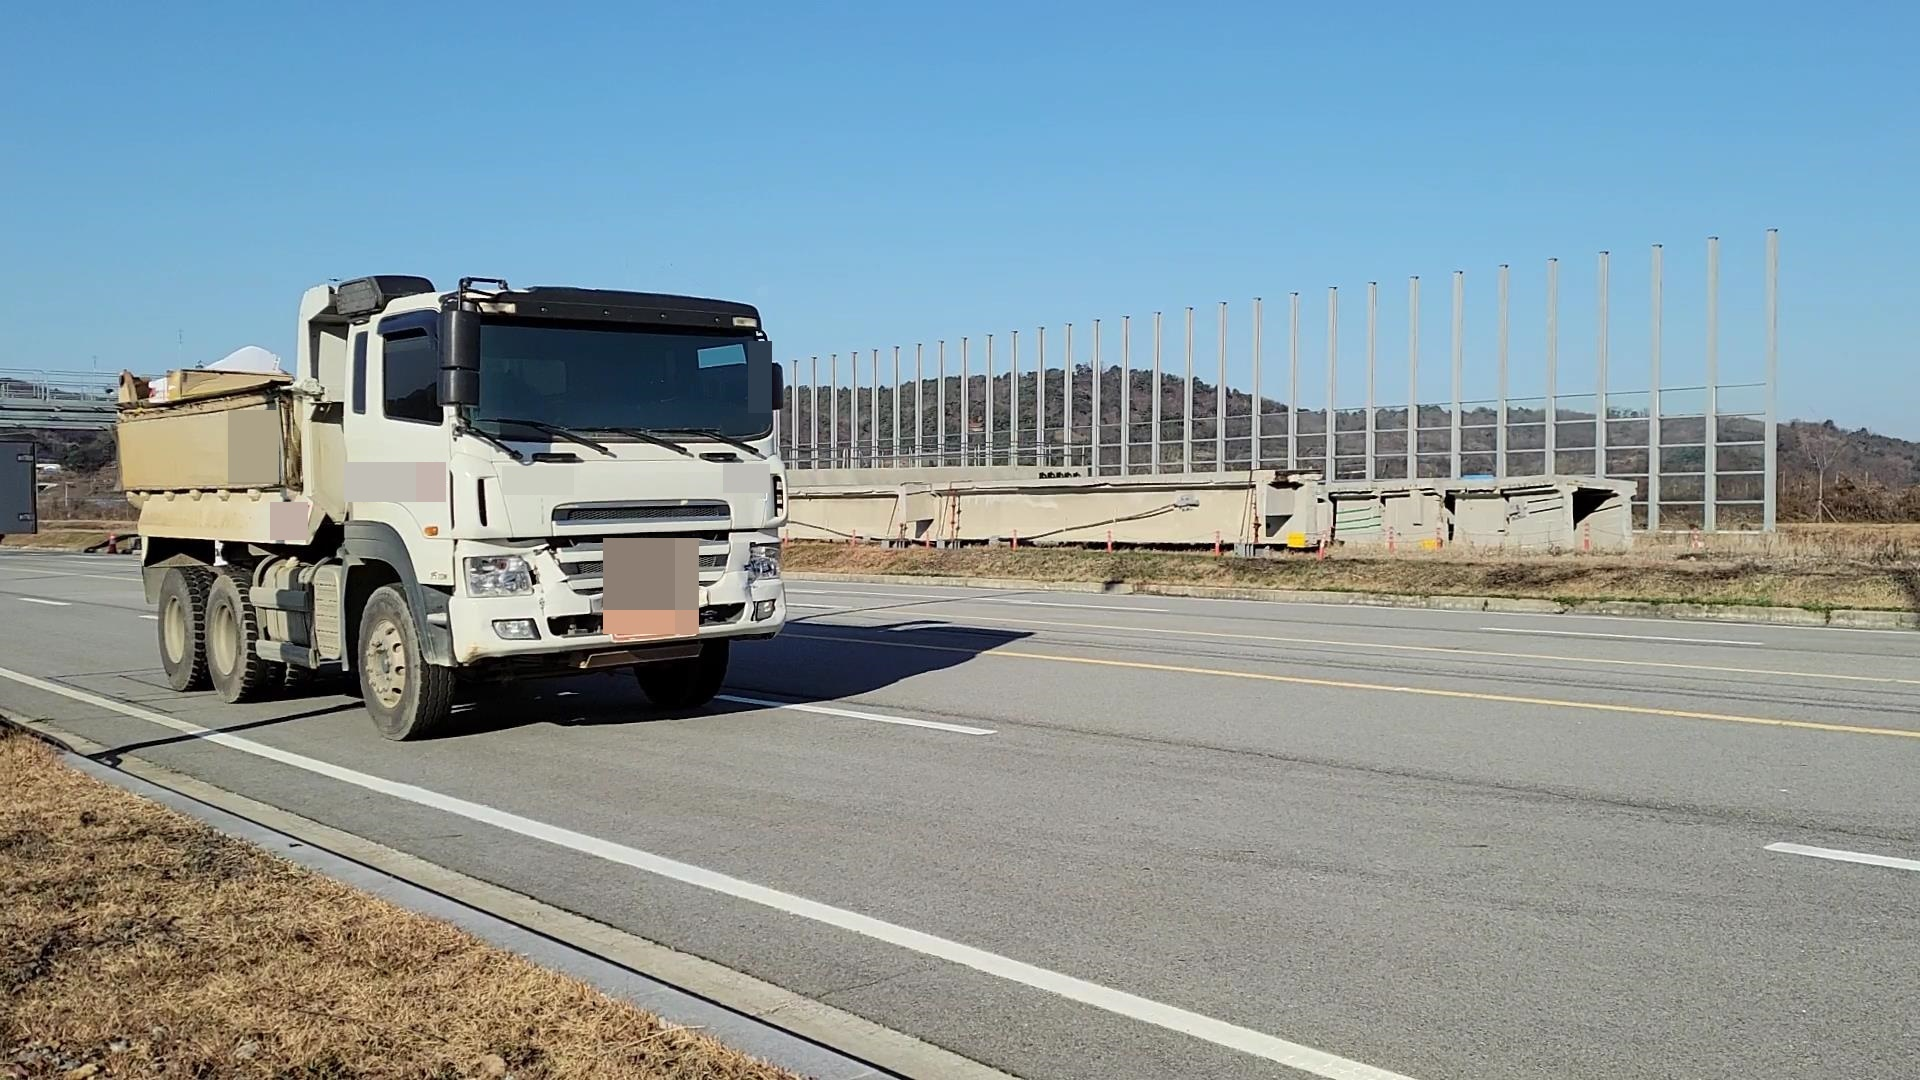불법차량: (116, 272, 787, 741)
